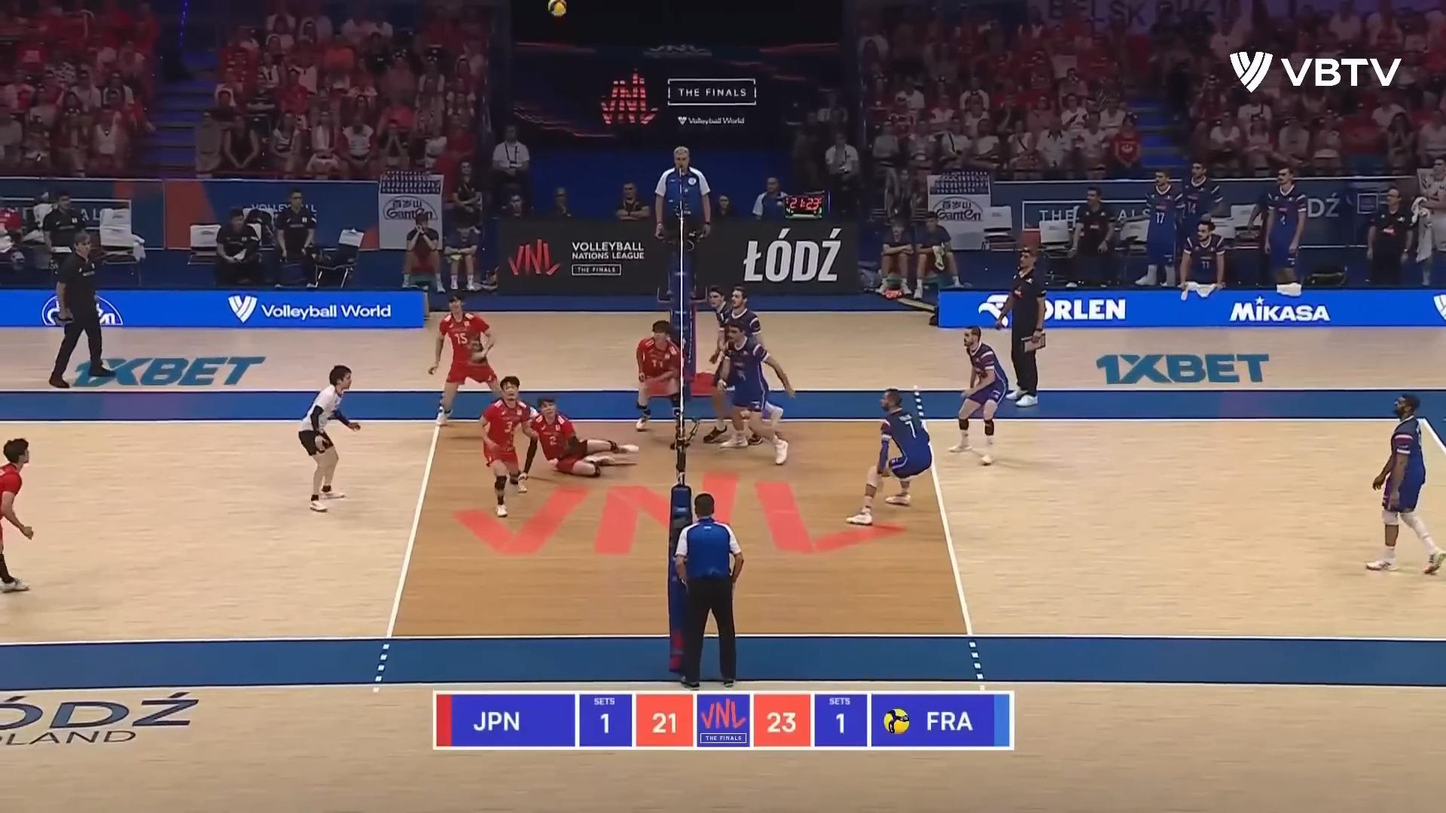ball: (546, 0, 568, 17)
